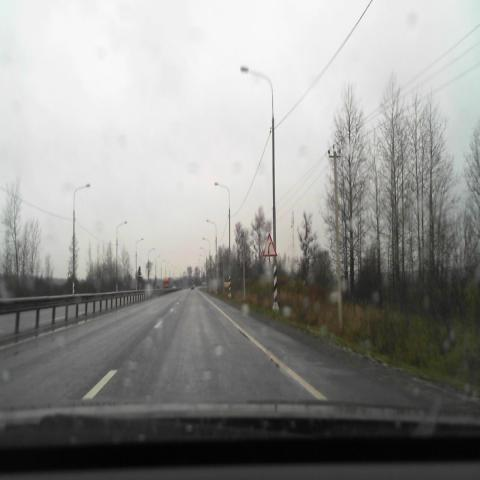1_11: (263, 233, 277, 256)
